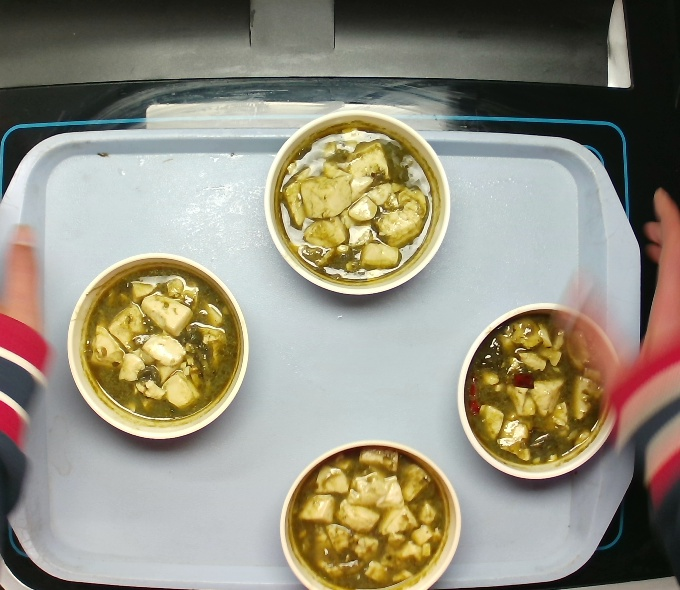wcq-SuanCaiDouFu: (67, 257, 248, 435), (269, 112, 446, 293), (461, 305, 621, 475), (282, 442, 458, 590)
